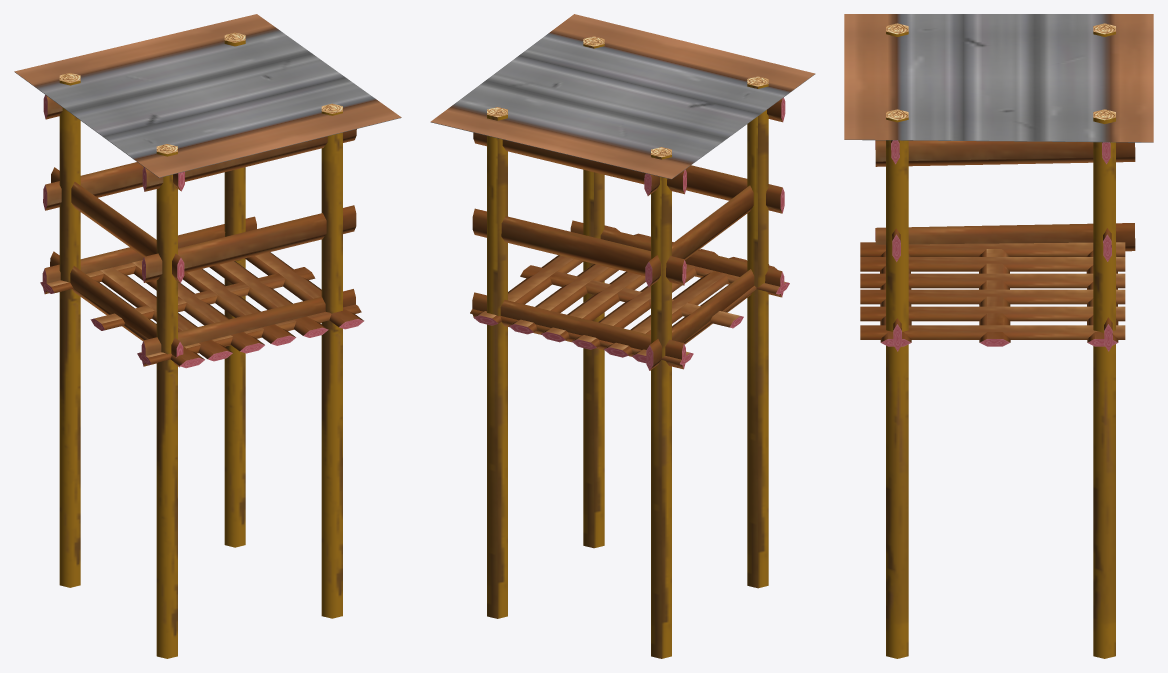
File: tower2.FBX
The picture shows the model from 3 angles, left to right: view 1: azimuth 30°, elevation 25°; view 2: azimuth 150°, elevation 25°; view 3: azimuth 270°, elevation 25°; orthographic projection. The views are drawn at different scales.
Parts seen in each view (by area): view 1: Box001; view 2: Box001; view 3: Box001.
Boxes of the visible parts, bbox=[...] form: Box001: bbox=[14, 14, 401, 658]; Box001: bbox=[430, 14, 815, 658]; Box001: bbox=[844, 14, 1153, 658].
Bounding box in the file's own units: 75.55 × 150 × 78.09.
